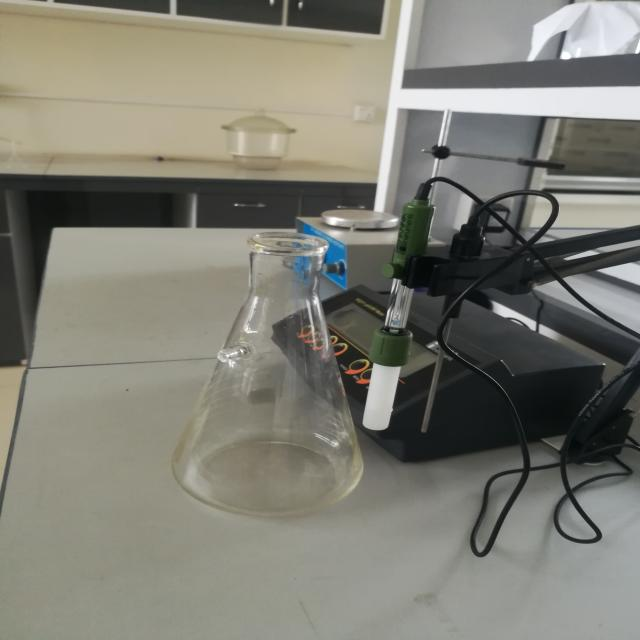Conical_Flask: (140, 191, 404, 555)
